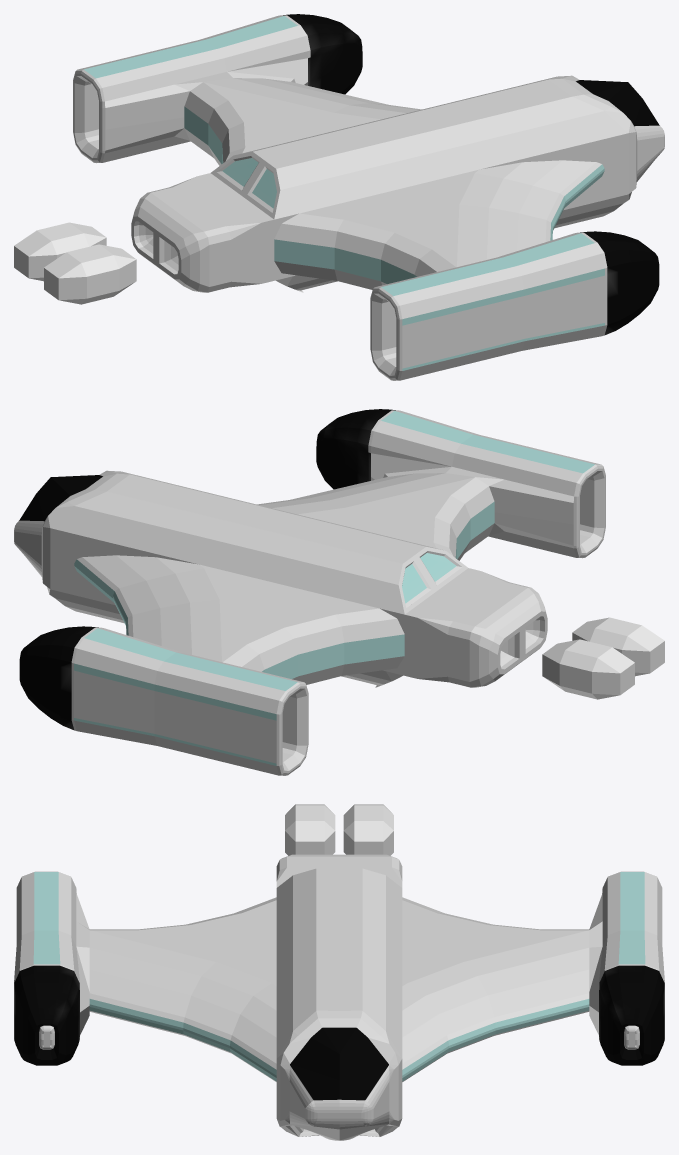
Rendered from Starship 2 v2.fbx.
3 renders of one model, top to bottom at view 1: azimuth 30°, elevation 25°; view 2: azimuth 150°, elevation 25°; view 3: azimuth 270°, elevation 25°, orthographic.
Visible parts, largest first — view 1: Cube, Cube.001; view 2: Cube, Cube.001; view 3: Cube, Cube.001.
Part boxes in pixels (x1,y1,x2,y2): Cube: [73, 14, 664, 380]; Cube.001: [14, 222, 136, 304]; Cube: [14, 409, 605, 775]; Cube.001: [542, 617, 664, 699]; Cube: [14, 854, 664, 1140]; Cube.001: [285, 804, 393, 855].
Size of the model in its own units: 1052 by 200 by 979.
